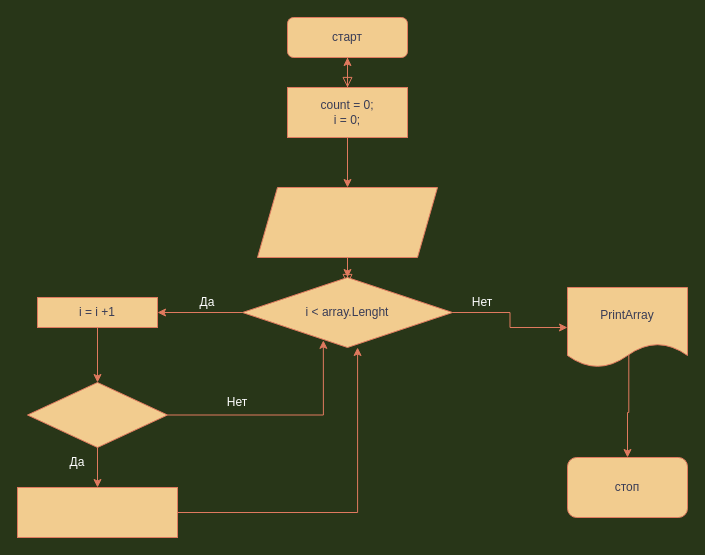
Some shapes in this 705 by 555 pixel diagram are drawn without their labels. The centre of each missing label's shape, as x and y in pixels:
array.Lenght <= 3: point 97,415
array2[count] = array1[i]; count = count +1;: point 97,512
string[] array1 string[] array2: point 347,222
